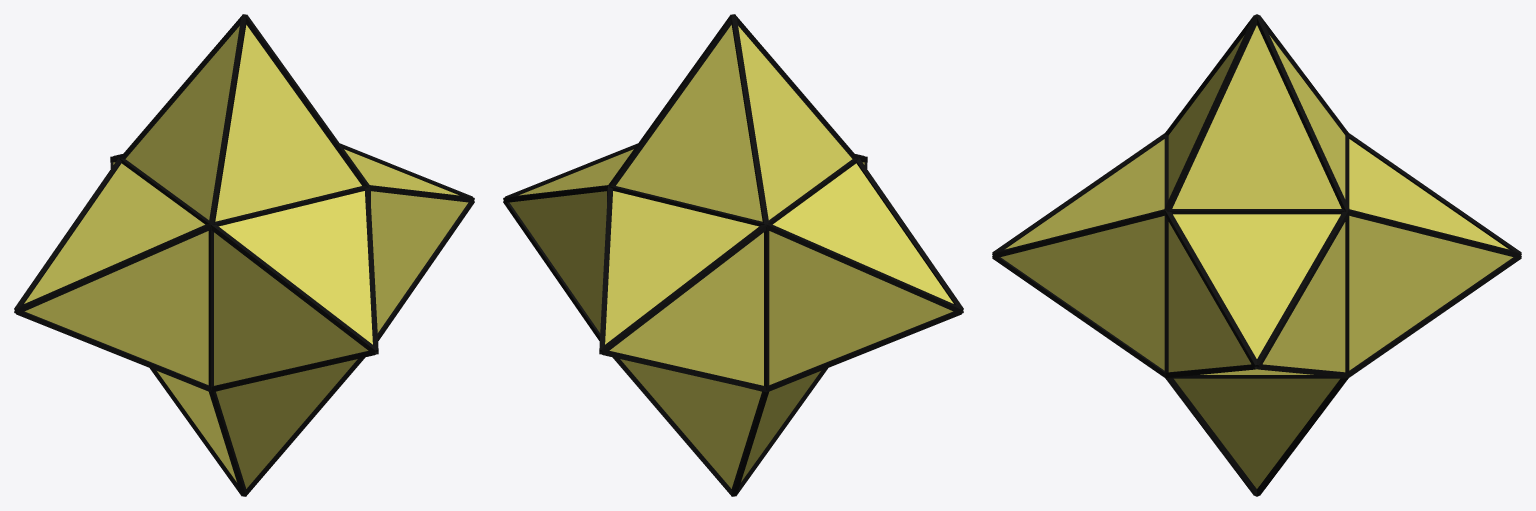
3 views of the same model, side by side, from view 1: azimuth 30°, elevation 25°; view 2: azimuth 150°, elevation 25°; view 3: azimuth 270°, elevation 25° (orthographic).
Visible parts, largest first — view 1: body; view 2: body; view 3: body.
Part boxes in pixels (box(x1,y1,x2,y2)): body: box(14, 14, 474, 496); body: box(503, 14, 963, 496); body: box(992, 14, 1521, 496).
Bounding box in the file's own units: 0.3 × 0.3 × 0.3.
Materials: 1 (1 with a texture image).
